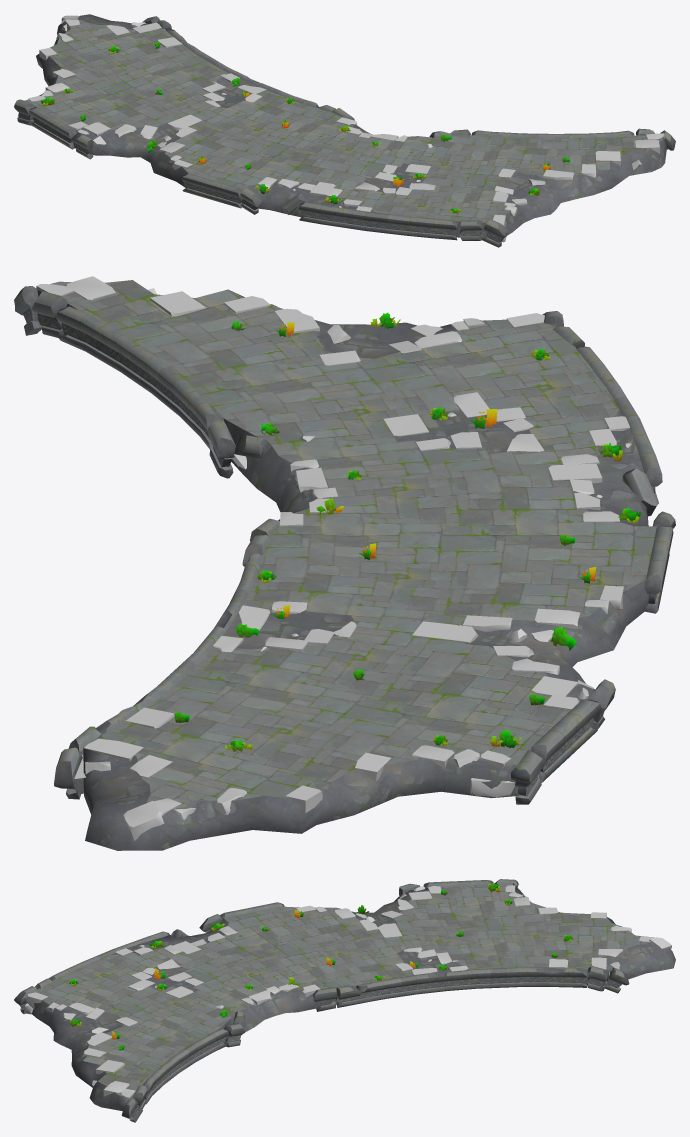
File: Area_MdBuild_SdBridge11_Group.fbx
The picture shows the model from 3 angles, top to bottom: view 1: azimuth 30°, elevation 25°; view 2: azimuth 150°, elevation 25°; view 3: azimuth 270°, elevation 25°; orthographic projection. The views are drawn at different scales.
Visible parts, largest first — view 1: Area_MdBuild_SdBridge11_Lod0; view 2: Area_MdBuild_SdBridge11_Lod0; view 3: Area_MdBuild_SdBridge11_Lod0.
Boxes of the visible parts, x1=… form: Area_MdBuild_SdBridge11_Lod0: x1=14, y1=14, x2=675, y2=247; Area_MdBuild_SdBridge11_Lod0: x1=14, y1=276, x2=675, y2=850; Area_MdBuild_SdBridge11_Lod0: x1=14, y1=879, x2=675, y2=1122.
Size of the model in its own units: 52.28 by 3.37 by 65.03.
